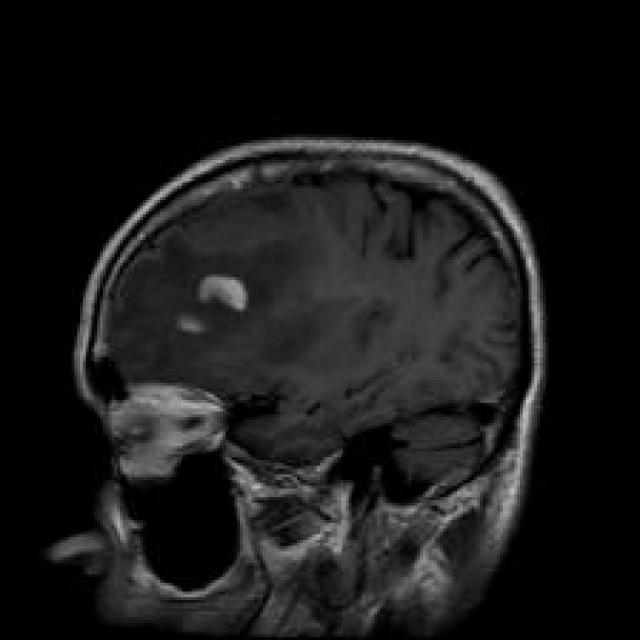glioma_tumor: (156, 250, 272, 358)
